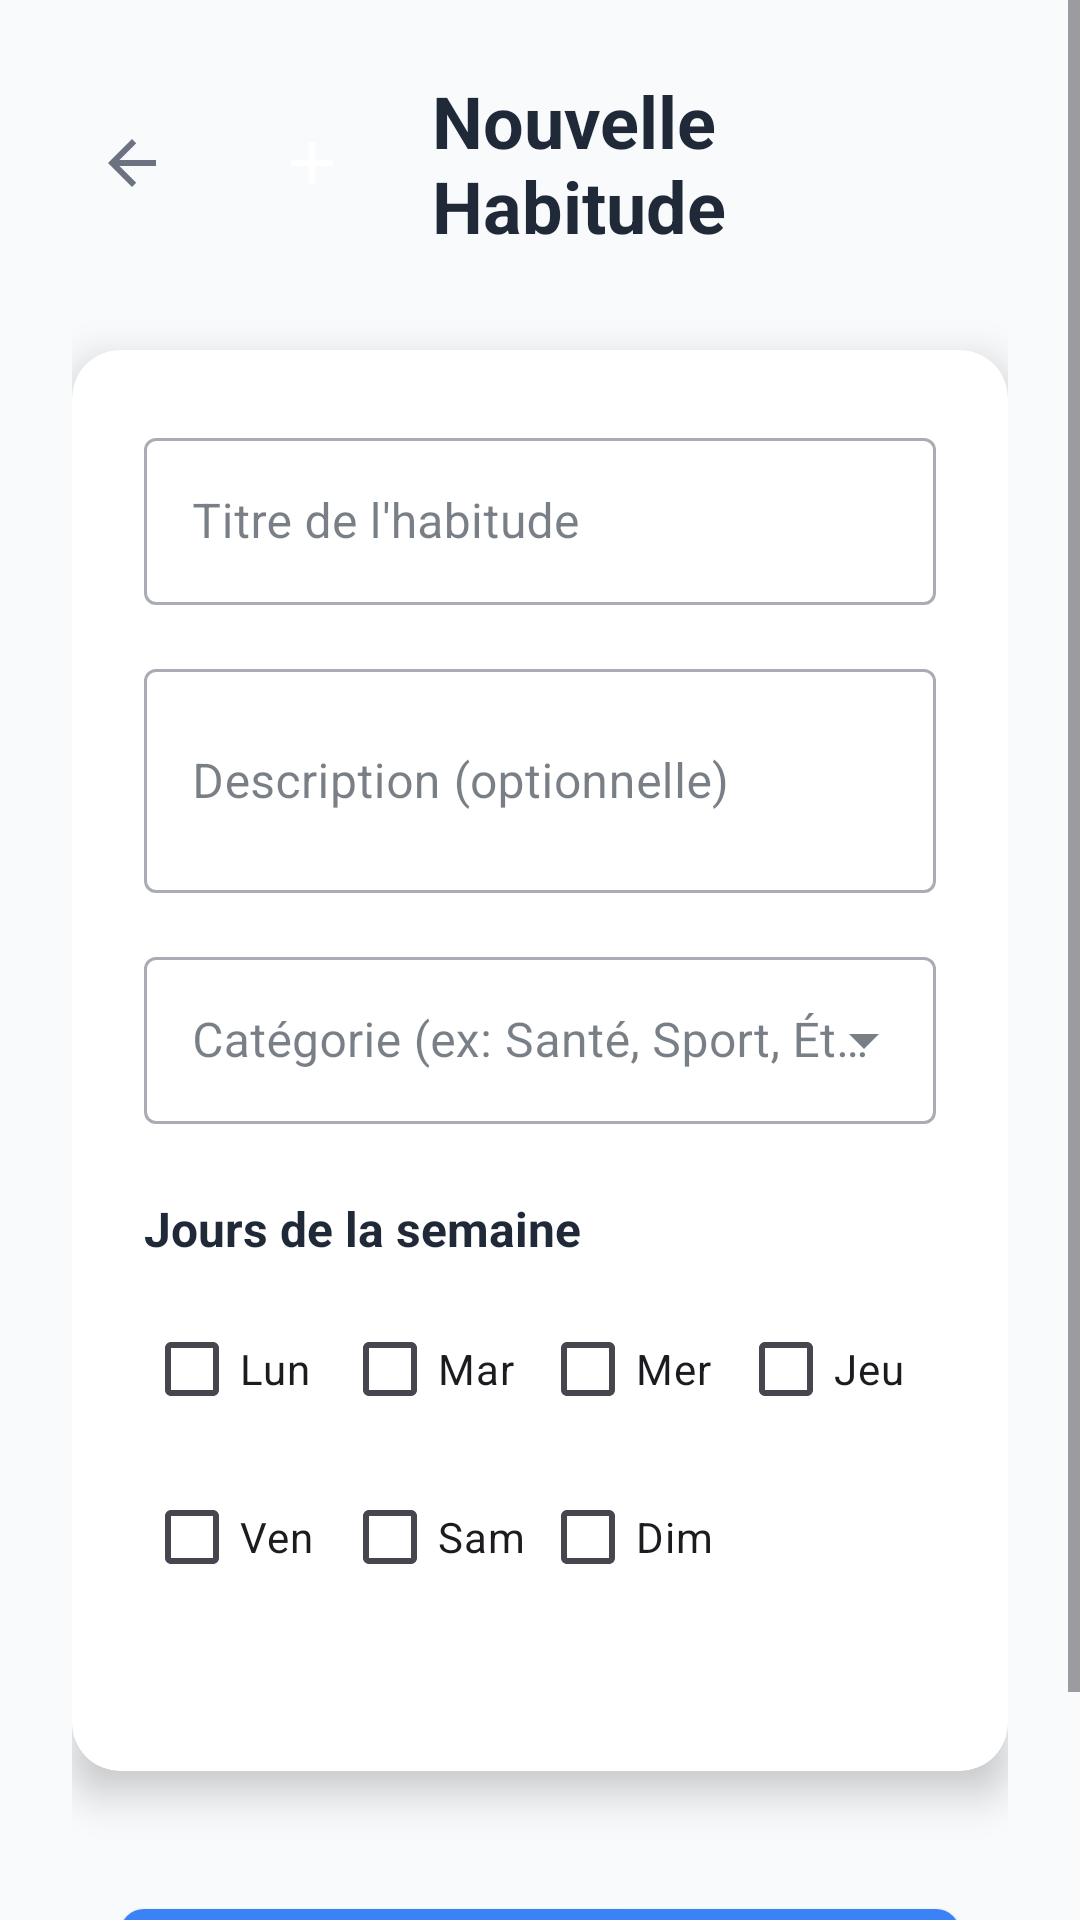

Point at icon controls on the screen. Image size 1080 x 1920, points as (x,y).
arrow back: (132,163)
